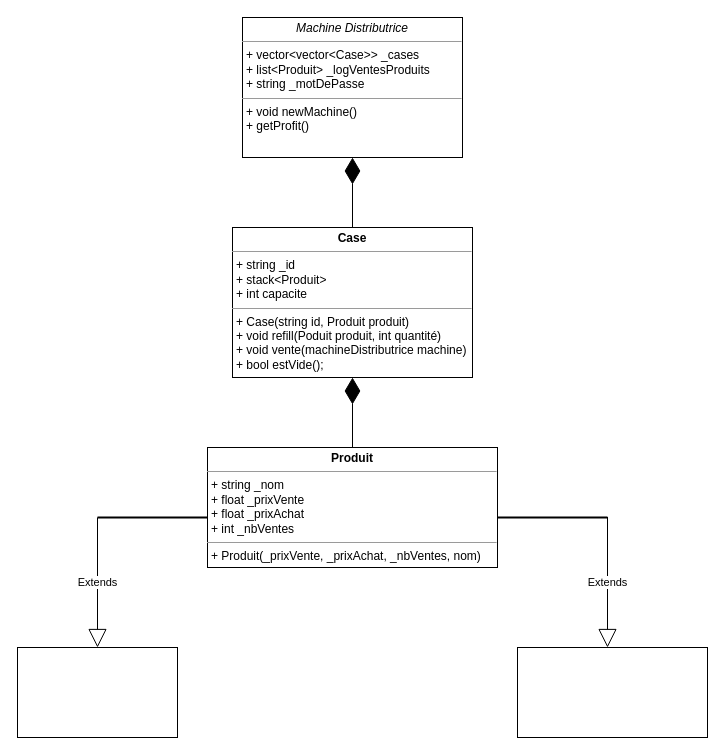
The diagram is 725 pixels wide and 755 high, and some of its shapes have lost their labels. The box of each missing label's shape, as (x1, y1, x2, y2) in pixels:
Boisson + float _volume + bool _estSansLactose + bool getEstSansLactose() const: (516, 646, 708, 738)
Nourriture + float _poid + bool _estVege + bool getEstVege() const: (16, 646, 178, 738)
